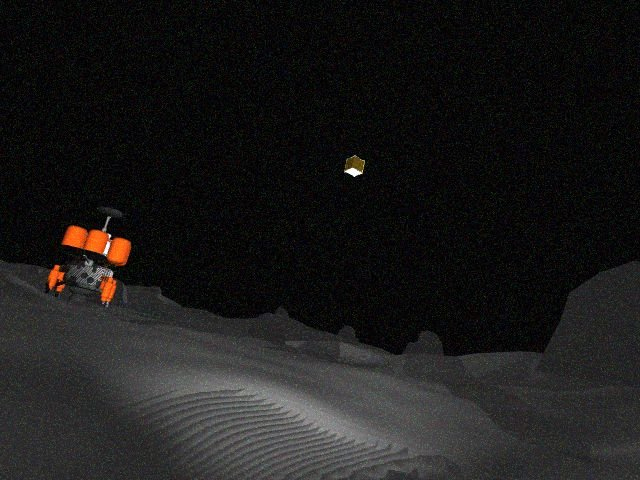homebase: (43, 204, 140, 314)
